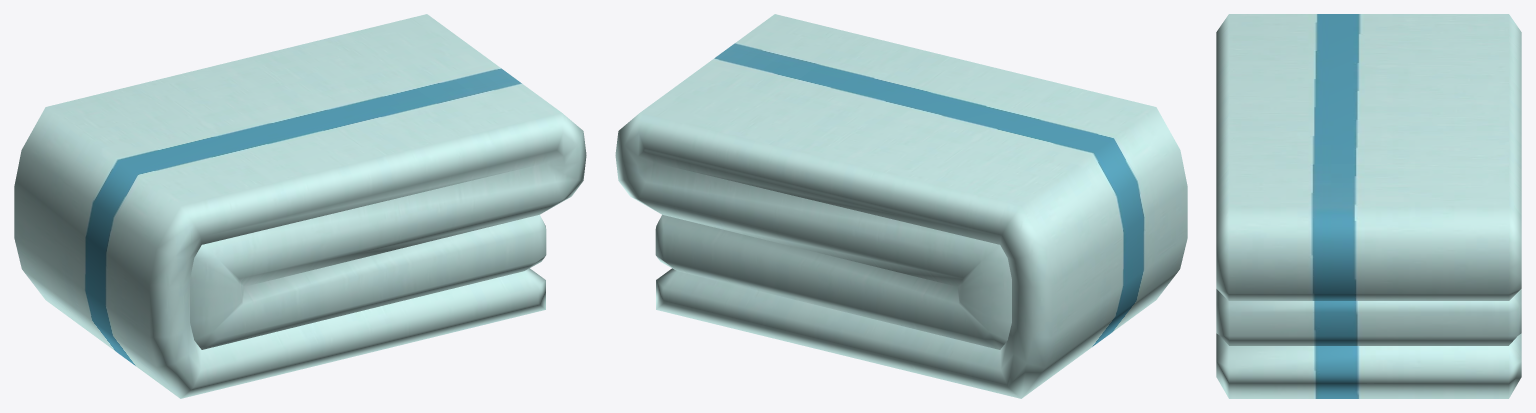
Rendered from folded_blanket.glb.
3 views of the same model, side by side, from view 1: azimuth 30°, elevation 25°; view 2: azimuth 150°, elevation 25°; view 3: azimuth 270°, elevation 25° (orthographic). The views are drawn at different scales.
Visible parts, largest first — view 1: folded_blanket; view 2: folded_blanket; view 3: folded_blanket.
Boxes of the visible parts, box(x1,y1,x2,y2) form: folded_blanket: box(14, 14, 586, 398); folded_blanket: box(615, 14, 1187, 398); folded_blanket: box(1216, 14, 1521, 398).
Bounding box in the file's own units: 0.36 × 0.152 × 0.2103.
1 material, 1 textured.
